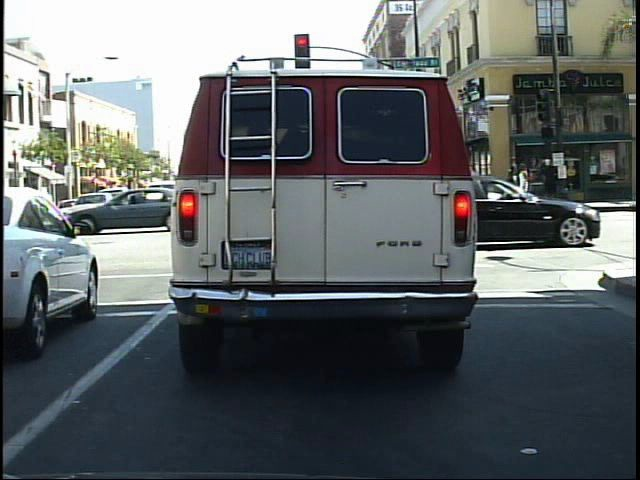person: (516, 157, 541, 214), (504, 153, 524, 211), (539, 154, 563, 197), (516, 161, 535, 213)
